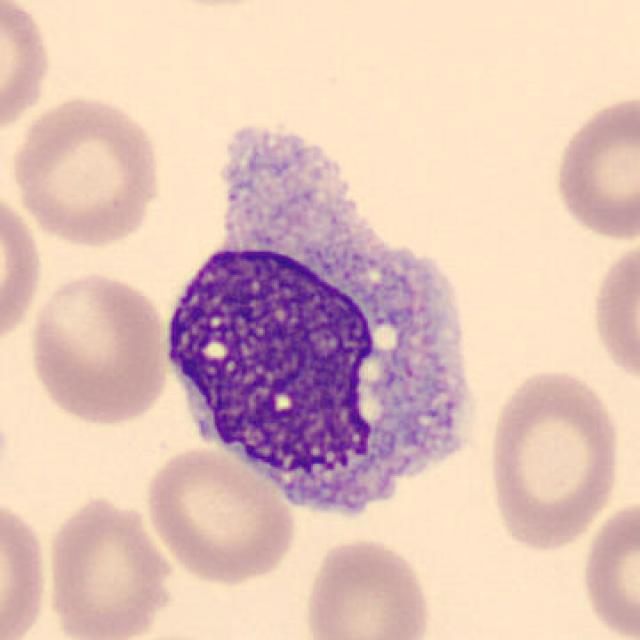Monocyte: (155, 106, 485, 541)
RBC: (482, 362, 626, 554), (6, 90, 166, 250), (23, 268, 173, 428), (140, 441, 298, 587), (39, 490, 176, 640), (298, 534, 436, 640), (548, 90, 638, 243), (578, 495, 638, 640), (0, 0, 57, 143), (587, 234, 638, 390), (0, 185, 46, 355), (0, 492, 52, 640)
